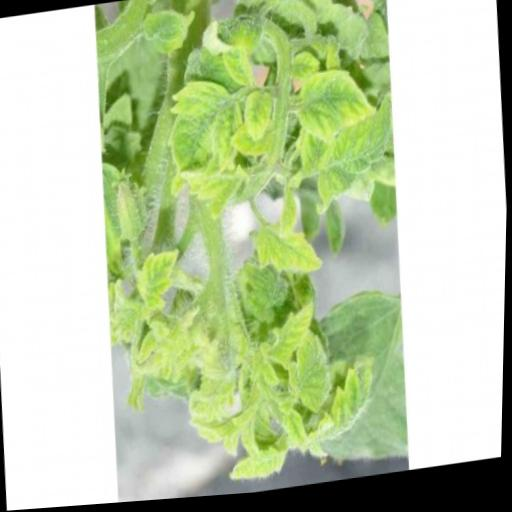Yellow Leaf Curl Virus: (164, 72, 240, 196), (285, 60, 376, 154), (237, 216, 328, 289), (302, 361, 379, 447), (265, 301, 317, 374), (139, 240, 181, 318), (240, 85, 275, 151)
